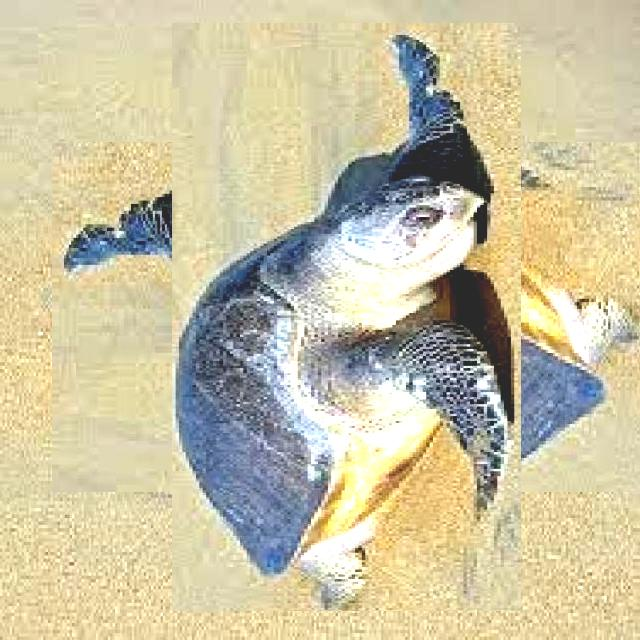Sea turtle: (112, 83, 580, 552)
